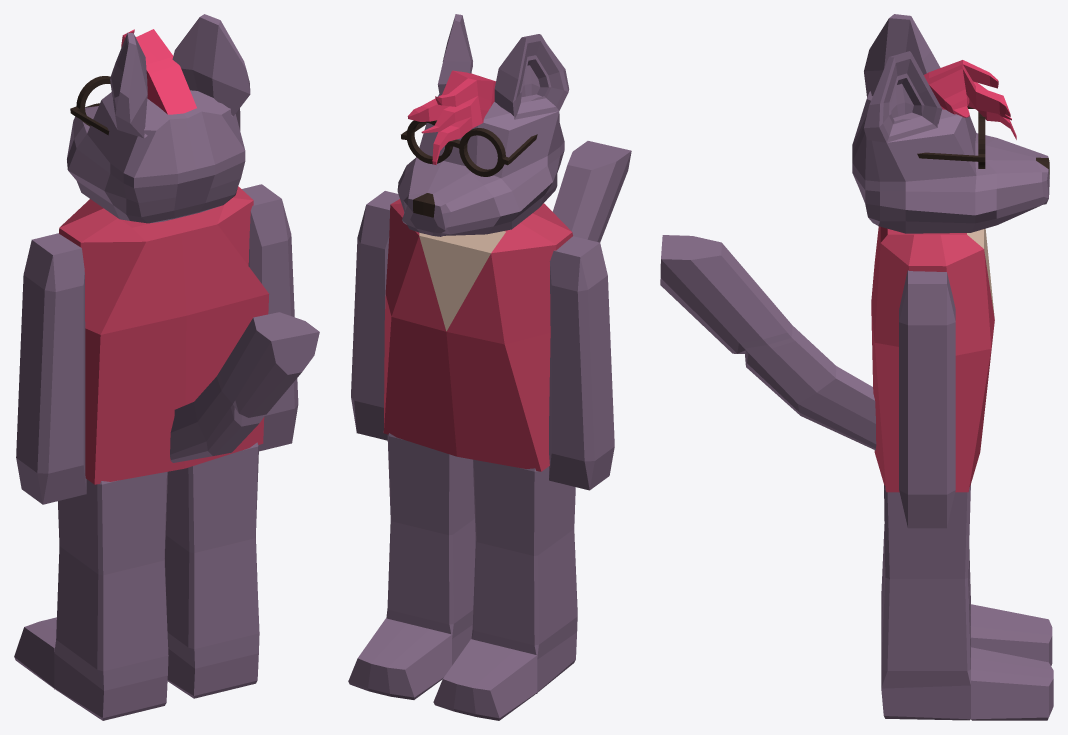
Rendered from Andre.glb.
3 views of the same model, side by side, from view 1: azimuth 30°, elevation 25°; view 2: azimuth 150°, elevation 25°; view 3: azimuth 270°, elevation 25° (orthographic). The views are drawn at different scales.
Visible parts, largest first — view 1: Cube, Cube.002, Head, Cube.003, Cube.005, Cube.006, Cube.004, Cube.001, Cylinder; view 2: Cube, Cube.002, Cube.003, Head, Cube.005, Cube.004, Cube.006, Cube.001, Cylinder; view 3: Head, Cube.003, Cube, Cube.006, Cube.004, Cube.002, Cube.001, Cylinder.
Boxes of the visible parts, box(x1,y1,x2,y2) form: Cube: box(59, 186, 269, 484); Cube.002: box(14, 471, 168, 720); Head: box(67, 14, 250, 223); Cube.003: box(165, 442, 259, 698); Cube.005: box(16, 233, 86, 504); Cube.006: box(170, 312, 319, 462); Cube.004: box(242, 184, 298, 451); Cube.001: box(121, 29, 196, 114); Cylinder: box(70, 76, 110, 135); Cube: box(383, 199, 572, 471); Cube.002: box(433, 459, 577, 720); Cube.003: box(348, 433, 475, 699); Head: box(397, 14, 569, 236); Cube.005: box(549, 236, 614, 490); Cube.004: box(351, 191, 399, 440); Cube.006: box(552, 141, 631, 242); Cube.001: box(407, 70, 495, 164); Cylinder: box(401, 120, 537, 176); Head: box(852, 14, 1049, 233); Cube.003: box(881, 485, 1053, 720); Cube: box(871, 226, 994, 492); Cube.006: box(660, 235, 876, 450); Cube.004: box(899, 270, 955, 528); Cube.002: box(881, 524, 1052, 665); Cube.001: box(924, 60, 1016, 139); Cylinder: box(917, 106, 985, 168).
Bounding box in the file's own units: 0.7758 × 1.9 × 1.04.
